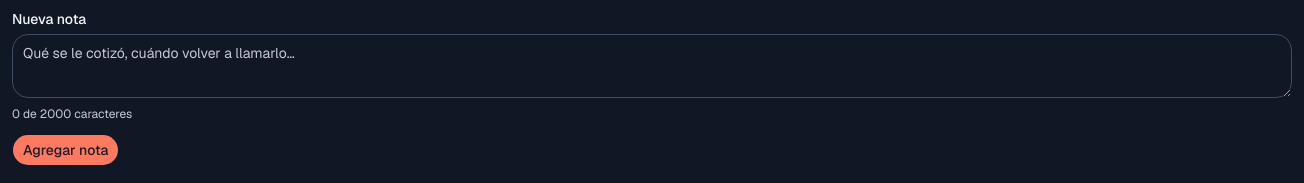
LeadNoteForm › guarda la nota con el lead actual y limpia el textarea
Type "Cotizó todo riesgo" into the text box labelled "Nueva nota".
click(652, 66); type("Cotizó todo riesgo")  # box [12,34,1292,98]
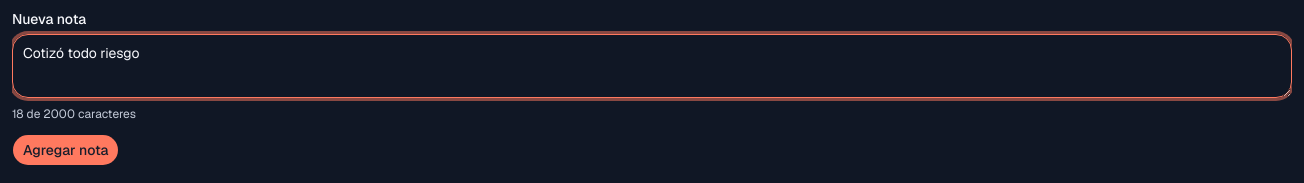
Click the button "Agregar nota".
click(66, 150)  # box [12,134,120,166]
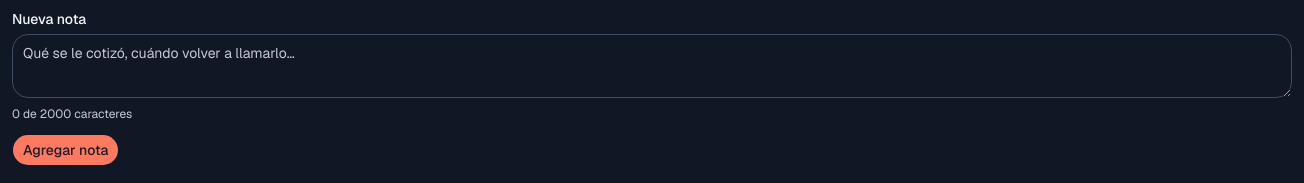
Result: the text box labelled "Nueva nota" is empty at [12,34,1292,98]
